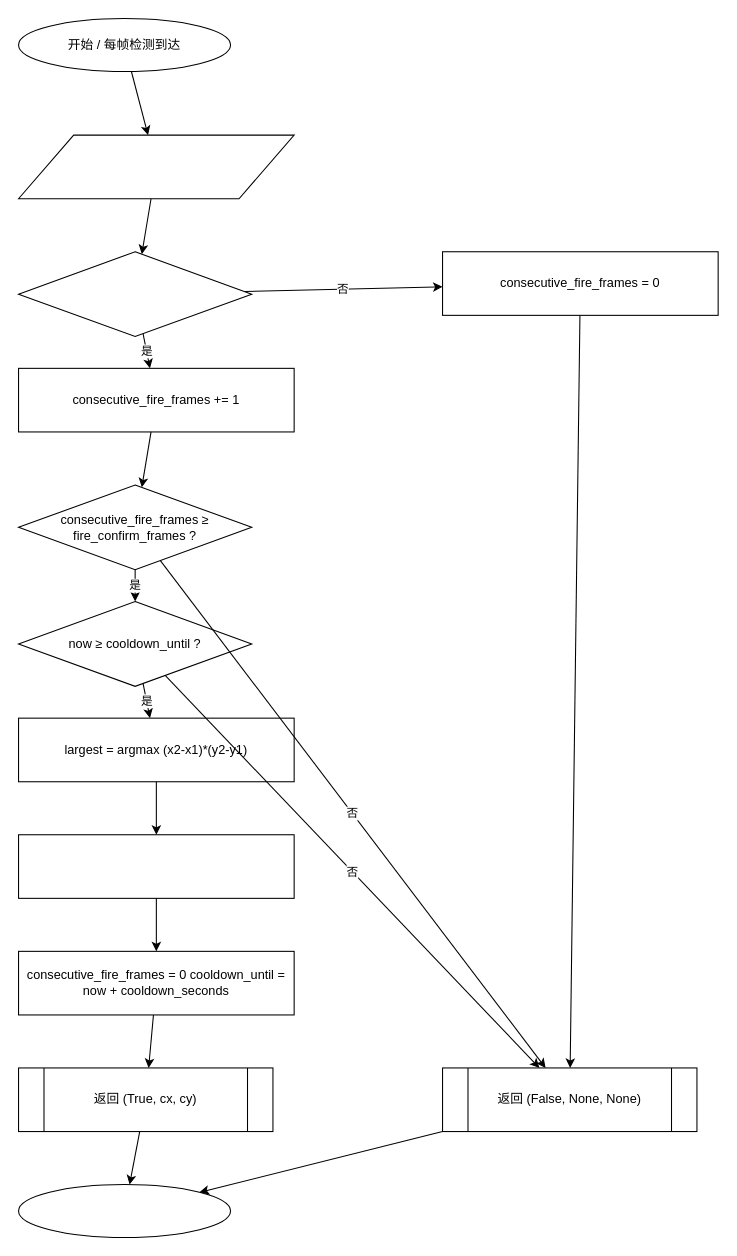
This 737x1256 diagram has some shape labels left out. The shapes that lost their labels are listed below. From the top down, each one's centre as x and y in pixels, then its label:
(155,166): 输入: detections, now 参数: fire_confirm_frames, cooldown_seconds
(134,294): len(detections) > 0 ?
(155,866): cx=(x1+x2)/2 cy=(y1+y2)/2
(124,1210): 结束 / 等待下一帧
